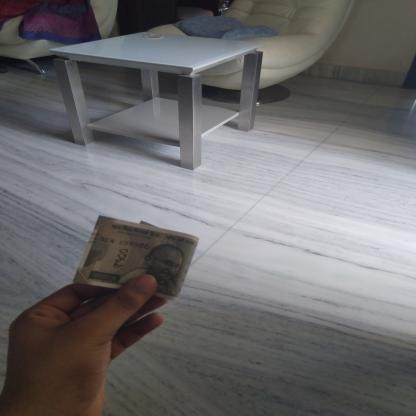New500Front: (73, 216, 197, 294)
